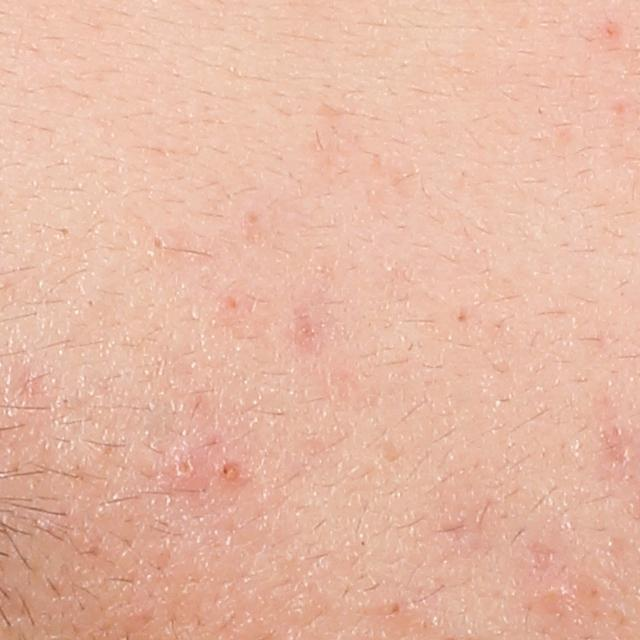papule: (168, 453, 204, 491), (220, 458, 243, 485)
